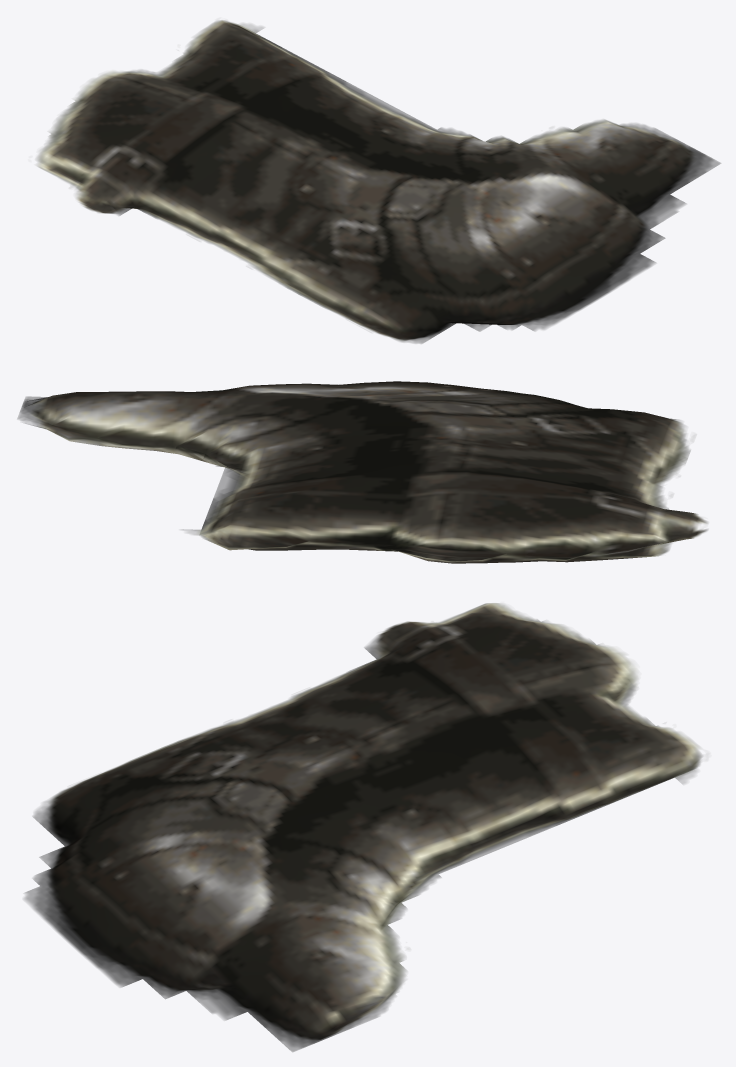
File: drop_boots.glb
3 views of the same model, one above another, from view 1: azimuth 30°, elevation 25°; view 2: azimuth 150°, elevation 25°; view 3: azimuth 270°, elevation 25° (orthographic). The views are drawn at different scales.
Visible parts, largest first — view 1: drop_boots; view 2: drop_boots; view 3: drop_boots.
Part boxes in pixels (x1,y1,x2,y2): drop_boots: [36, 20, 720, 343]; drop_boots: [17, 381, 707, 563]; drop_boots: [24, 603, 702, 1051].
Bounding box in the file's own units: 0.6694 × 0.1278 × 0.5651.
Materials: 1 (1 with a texture image).
